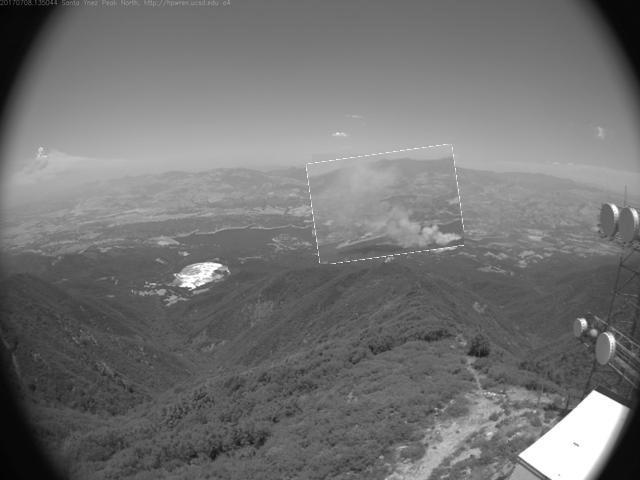smoke: (310, 150, 463, 262)
